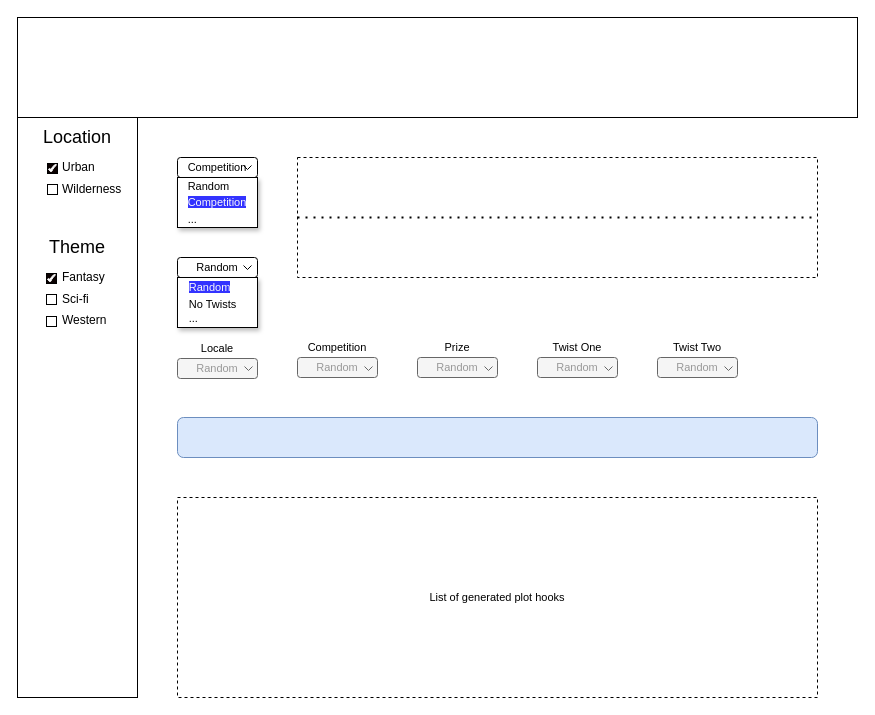
The diagram is 875 pixels wide and 715 high, and some of its shapes have lost their labels. Each missing label, with the centre of its shape:
"Adventure Type" belongs at (x=217, y=147).
"Adventure type description Template description" belongs at (x=557, y=217).
"Generate Plot Hooks!" belongs at (x=497, y=437).
"Random Plot Generator" belongs at (x=437, y=67).
"Template" belongs at (x=217, y=247).
